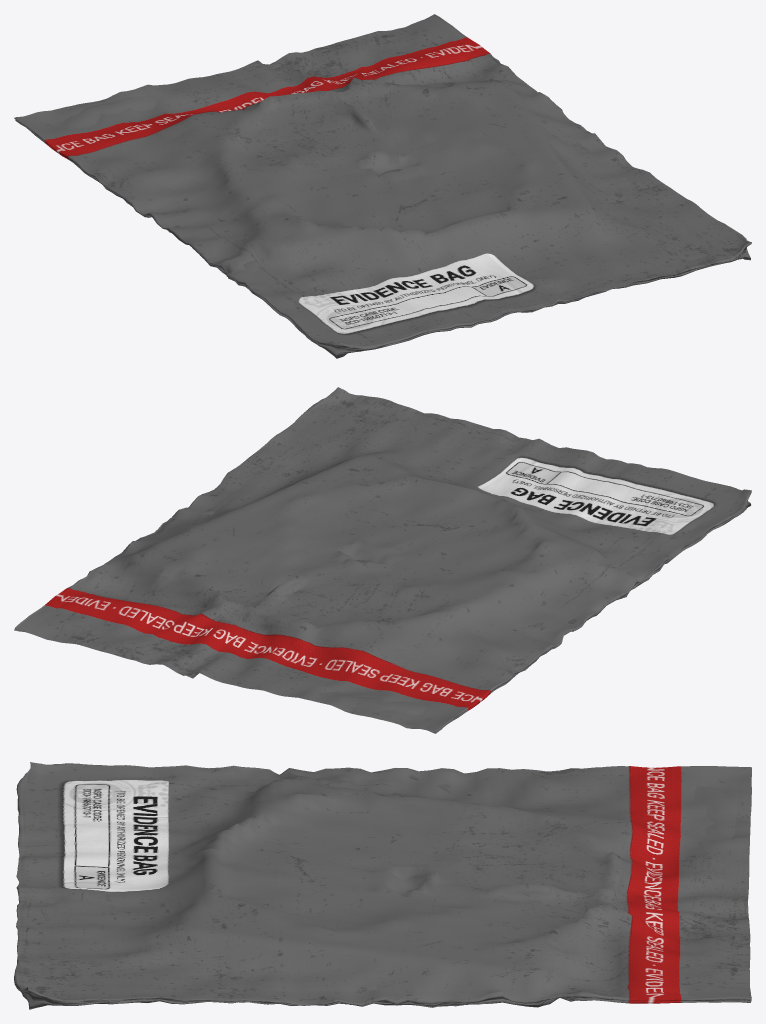
Rendered from evidenceFlash.fbx.
The picture shows the model from 3 angles, top to bottom: view 1: azimuth 30°, elevation 25°; view 2: azimuth 150°, elevation 25°; view 3: azimuth 270°, elevation 25°; orthographic projection. The views are drawn at different scales.
Parts seen in each view (by area): view 1: Plane; view 2: Plane; view 3: Plane.
Part boxes in pixels (x1=…): Plane: x1=14, y1=14, x2=751, y2=358; Plane: x1=14, y1=387, x2=751, y2=733; Plane: x1=14, y1=762, x2=751, y2=1009.
Size of the model in its own units: 1158 by 83.44 by 1517.
Materials: 3 (3 with a texture image).
